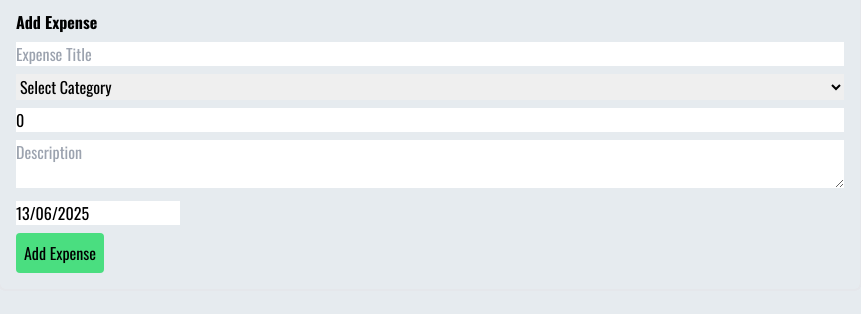
Scenario: addExpense › AddExpensesAppDashboardProps input validations › displays an error message if the {"name":"amount"} field is empty
Type "input title" into the field with test id "title". click: {"x": 430, "y": 54}
box: x1=16 y1=42 x2=844 y2=66
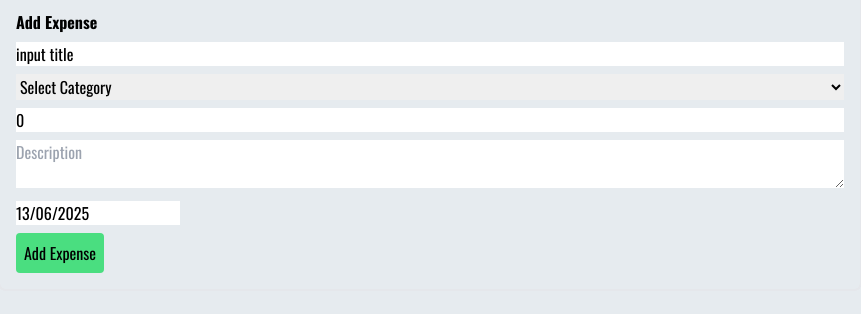
Select "Rent" in the dropdown with test id "category". click: {"x": 430, "y": 87}
box: x1=16 y1=74 x2=844 y2=100
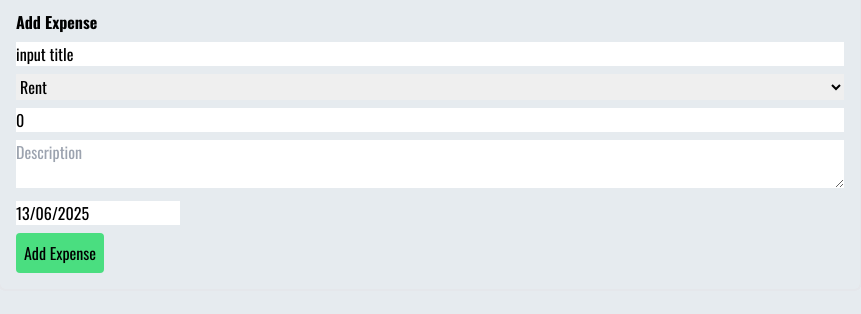
Type "description" into the text box with test id "description". click: {"x": 430, "y": 164}
box: x1=16 y1=140 x2=844 y2=188
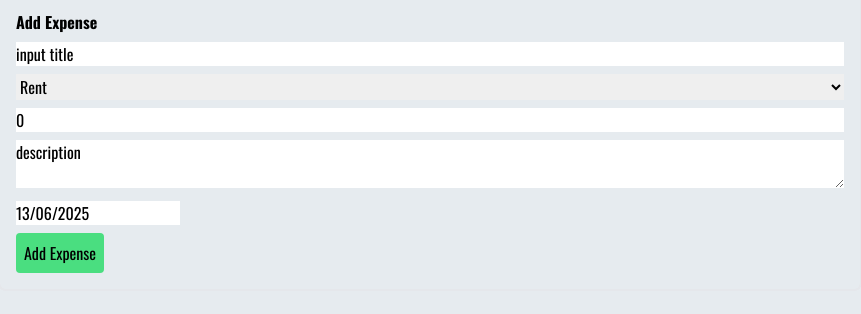
Submit the form with test id "add-expense-form"
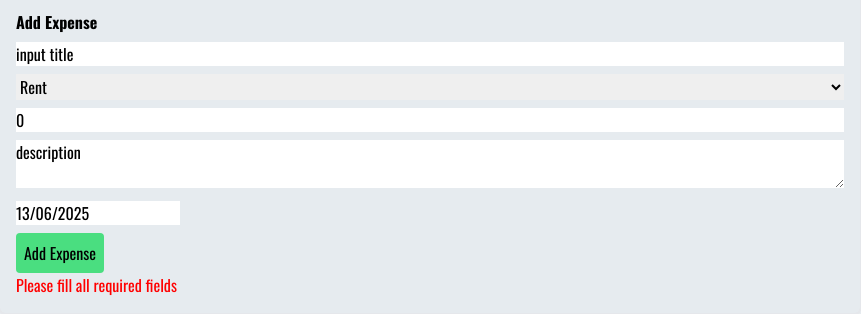
expect the text with test id "submit-message" reads "Please fill all required fields": met, box x1=16 y1=273 x2=177 y2=297
